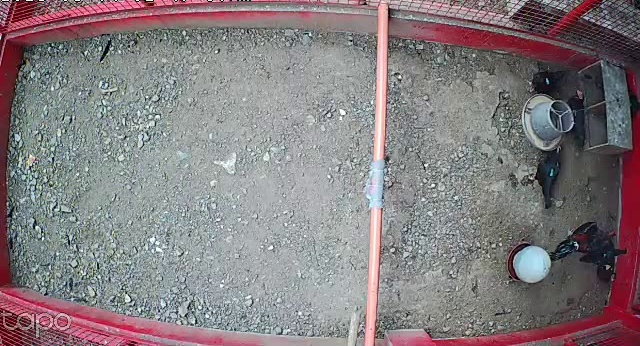Chicken: (525, 141, 567, 209), (559, 90, 593, 152), (523, 65, 572, 97), (574, 240, 632, 265), (597, 234, 619, 282)
Rooster: (544, 214, 623, 266)
Saddle_Color_Yellow: (606, 262, 614, 272)
